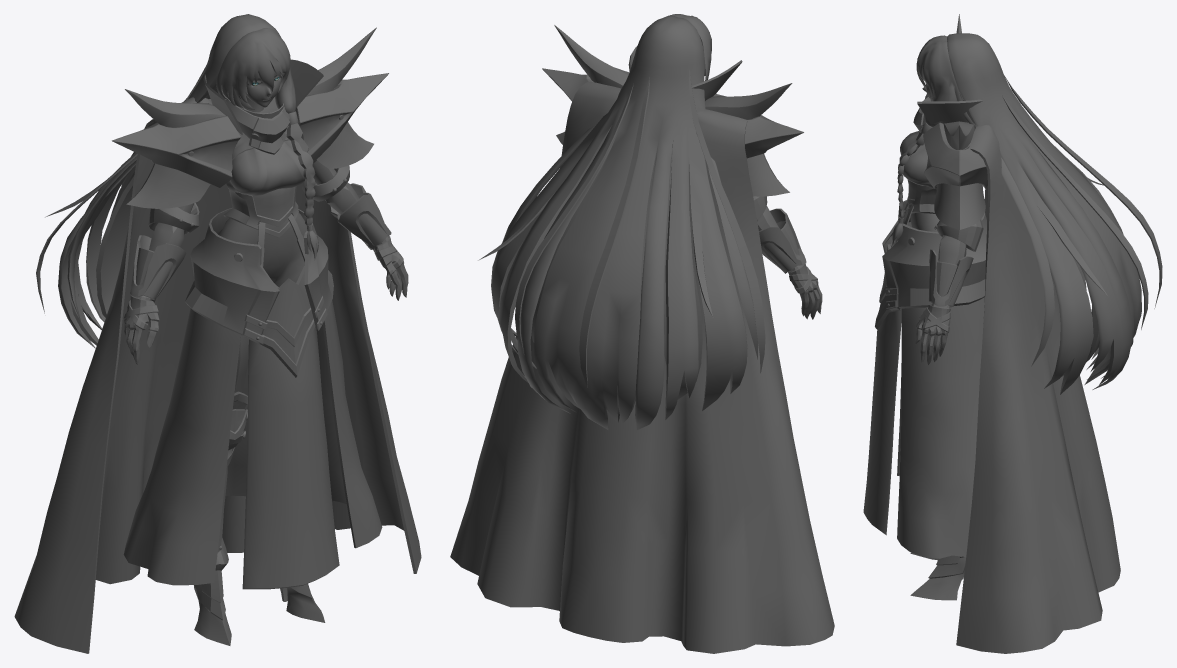
File: ARIANRHOD.fbx
3 views of the same model, side by side, from view 1: azimuth 30°, elevation 25°; view 2: azimuth 150°, elevation 25°; view 3: azimuth 270°, elevation 25° (orthographic). The views are drawn at different scales.
Parts seen in each view (by area): view 1: polySurface267, polySurface74, hair, pasted__polySurface566; view 2: polySurface74, hair, polySurface267; view 3: polySurface74, hair, polySurface267.
Boxes of the visible parts, x1,y1,x2,y2 form: polySurface267: (112, 27, 408, 645); polySurface74: (14, 97, 421, 653); hair: (36, 14, 318, 348); pasted__polySurface566: (241, 72, 282, 112); polySurface74: (450, 81, 834, 653); hair: (478, 14, 765, 429); polySurface267: (542, 25, 822, 319); polySurface74: (897, 125, 1120, 653); hair: (892, 33, 1162, 394); polySurface267: (863, 14, 987, 600).
Bounding box in the file's own units: 120 × 175 × 88.03.
